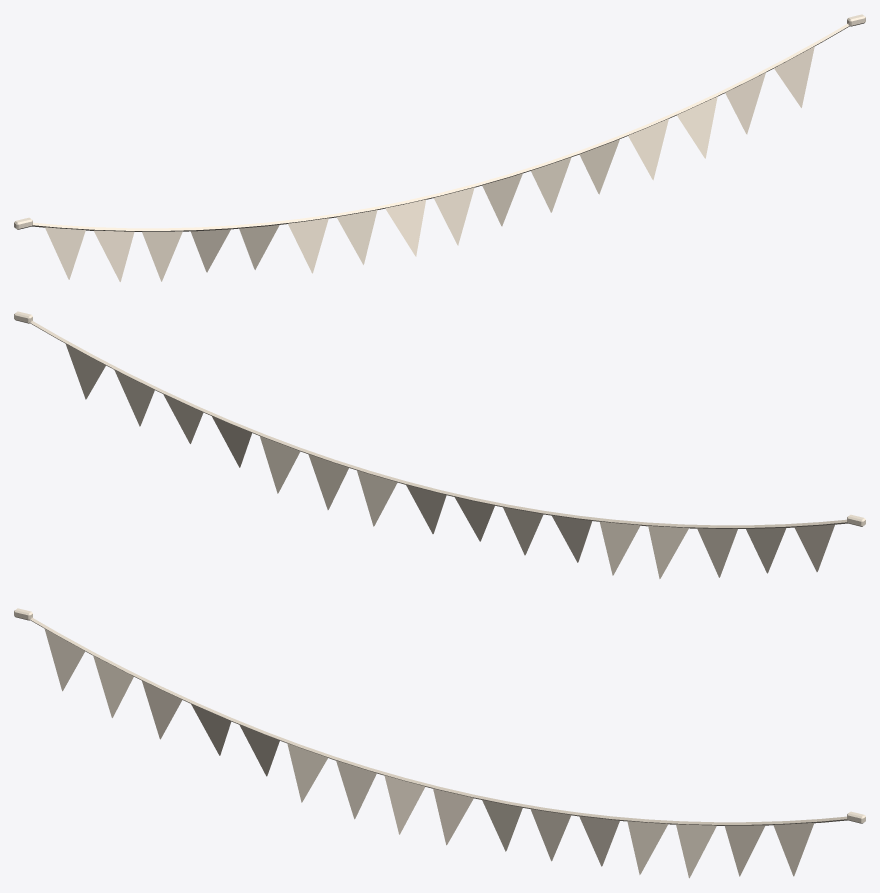
The model's file is SM_VK_Prop_Bunting_6.fbx.
3 renders of one model, top to bottom at view 1: azimuth 30°, elevation 25°; view 2: azimuth 150°, elevation 25°; view 3: azimuth 330°, elevation 25°, orthographic.
Visible parts, largest first — view 1: SM_VK_Prop_Bunting_6.001; view 2: SM_VK_Prop_Bunting_6.001; view 3: SM_VK_Prop_Bunting_6.001.
Part boxes in pixels (x1=…): SM_VK_Prop_Bunting_6.001: x1=14, y1=14, x2=865, y2=281; SM_VK_Prop_Bunting_6.001: x1=14, y1=311, x2=865, y2=578; SM_VK_Prop_Bunting_6.001: x1=14, y1=608, x2=865, y2=878.
Size of the model in its own units: 6.12 by 0.8675 by 0.1921.
